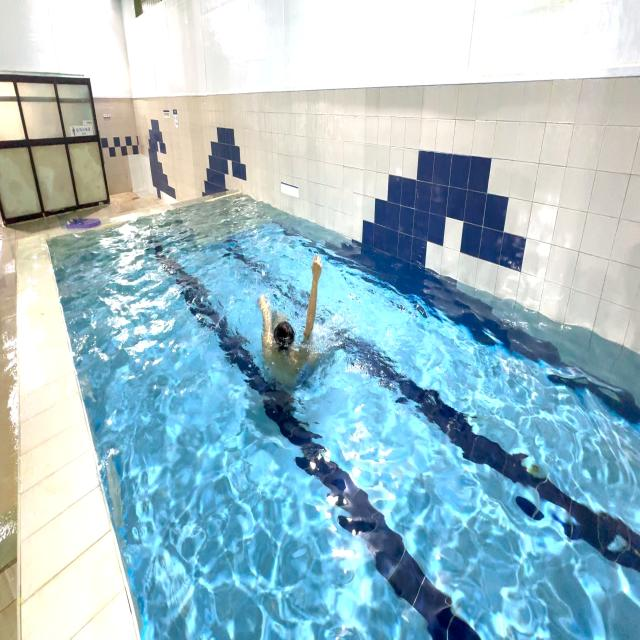Drowning: (237, 232, 338, 408)
